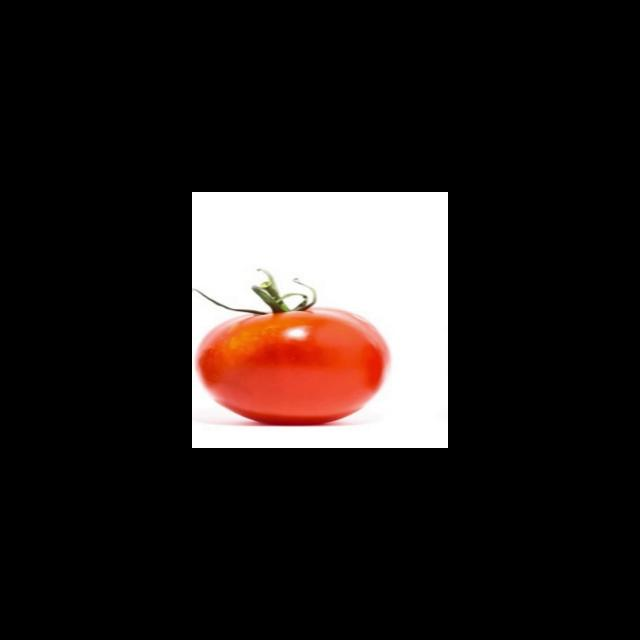tomato: (192, 279, 397, 430)
